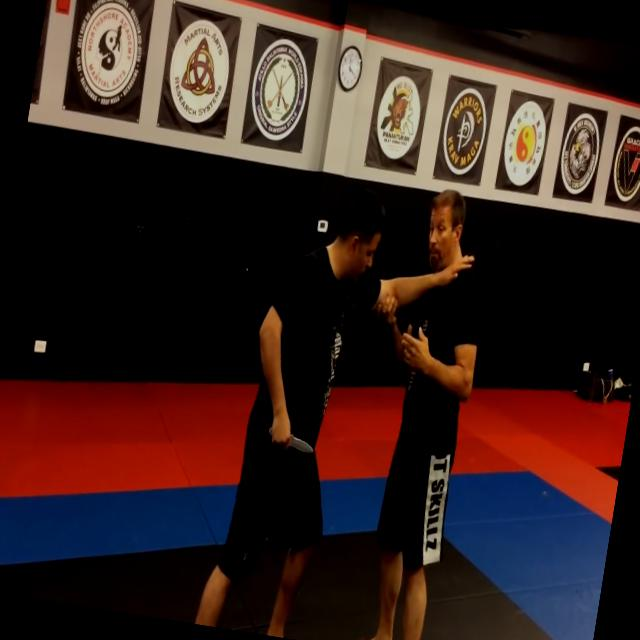knife: (264, 418, 319, 458)
